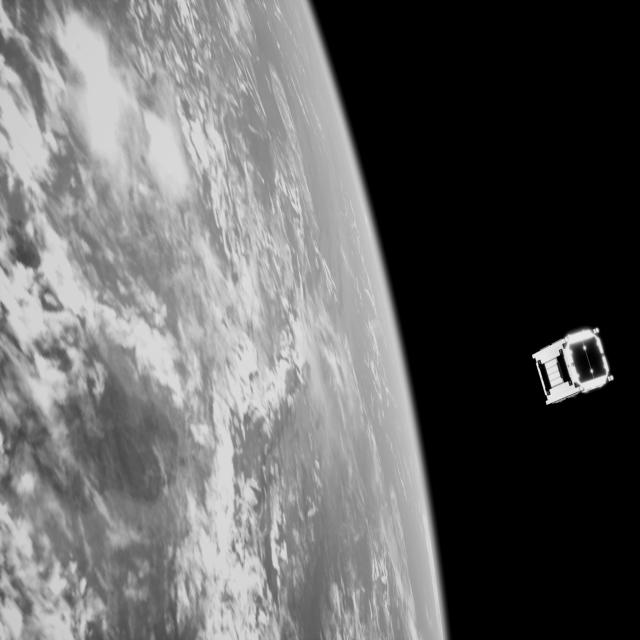satellite: (525, 325, 618, 405)
